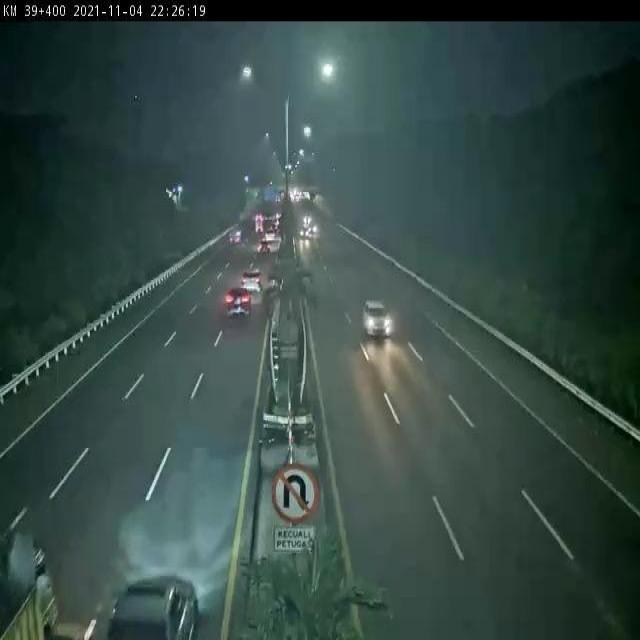car: (108, 577, 201, 640), (362, 300, 392, 340), (225, 285, 252, 320), (51, 617, 88, 640), (242, 269, 262, 295), (259, 240, 271, 253)
truck-m-: (0, 525, 58, 640)
